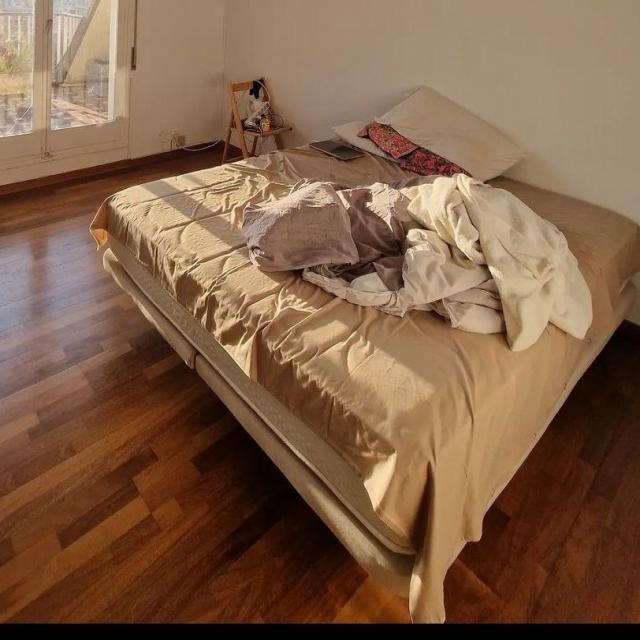bed: (92, 79, 640, 515)
